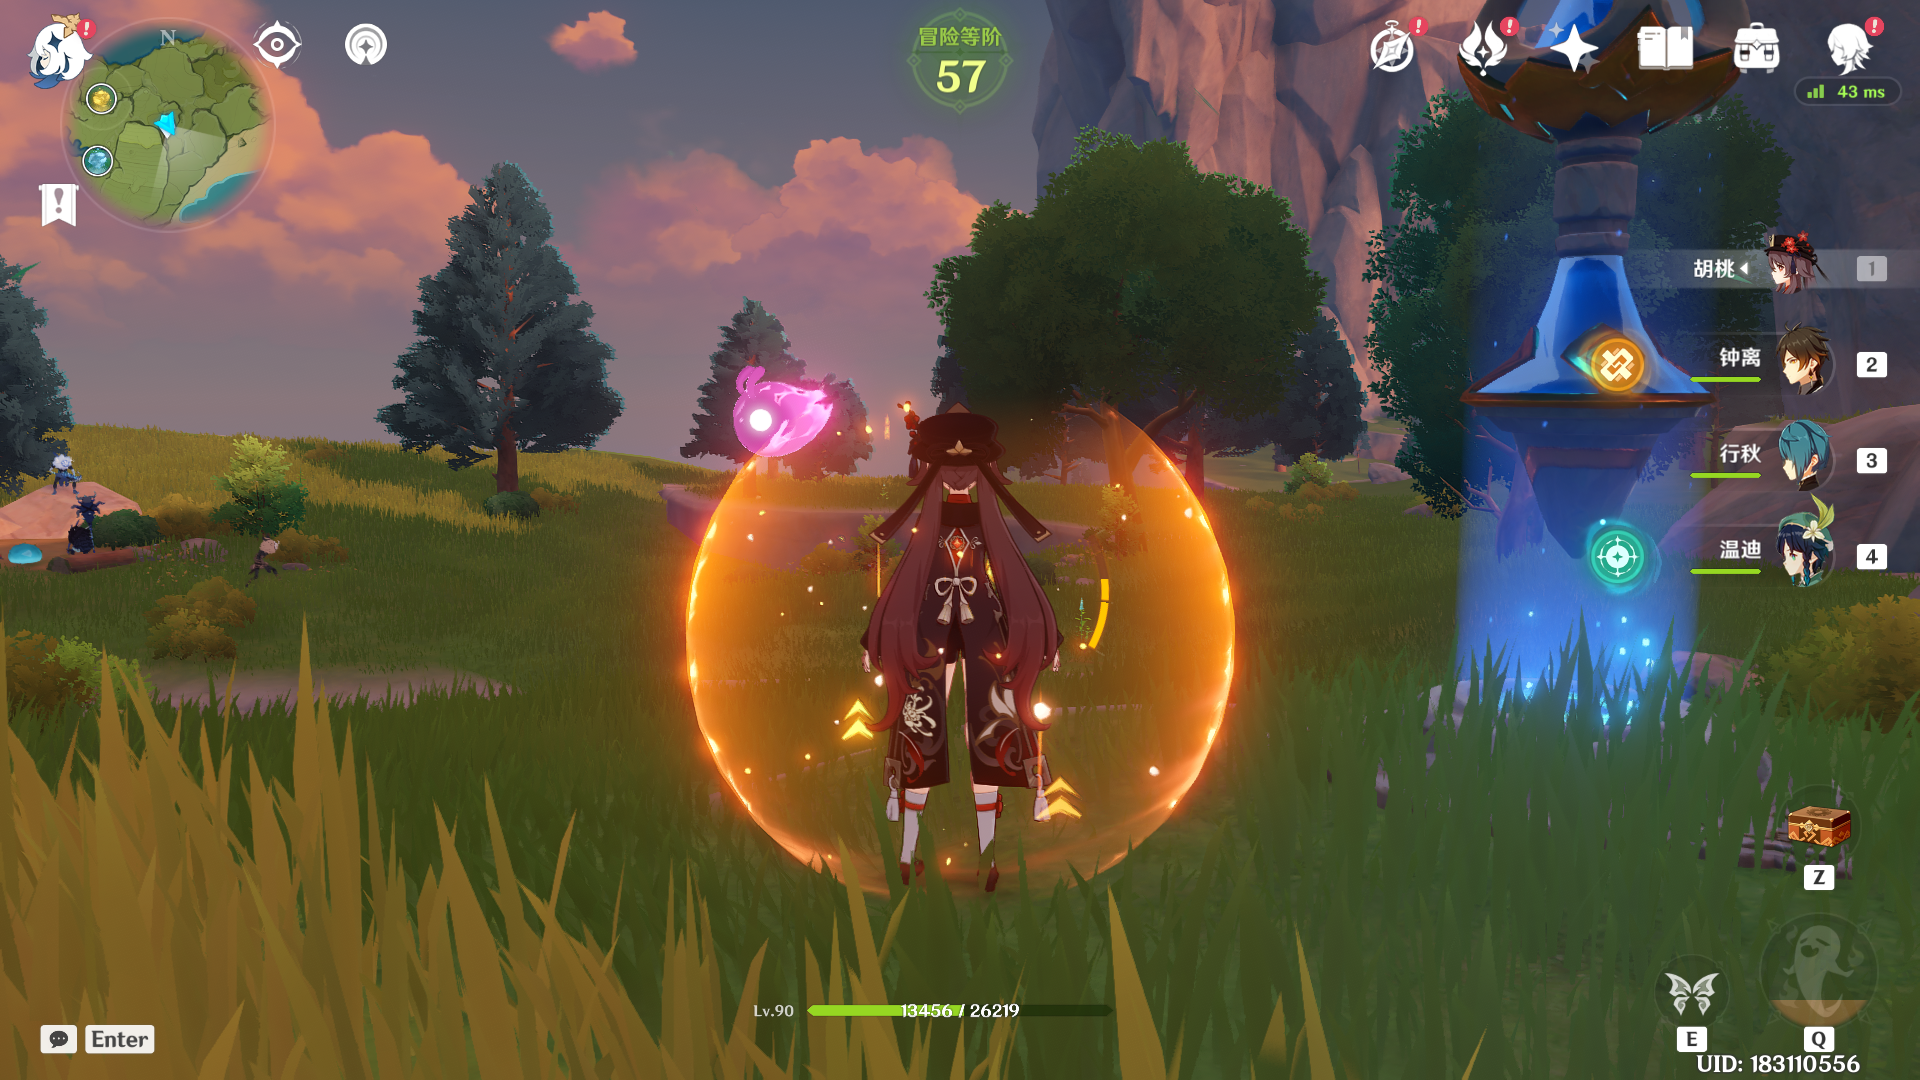character: (790, 419, 1127, 887)
